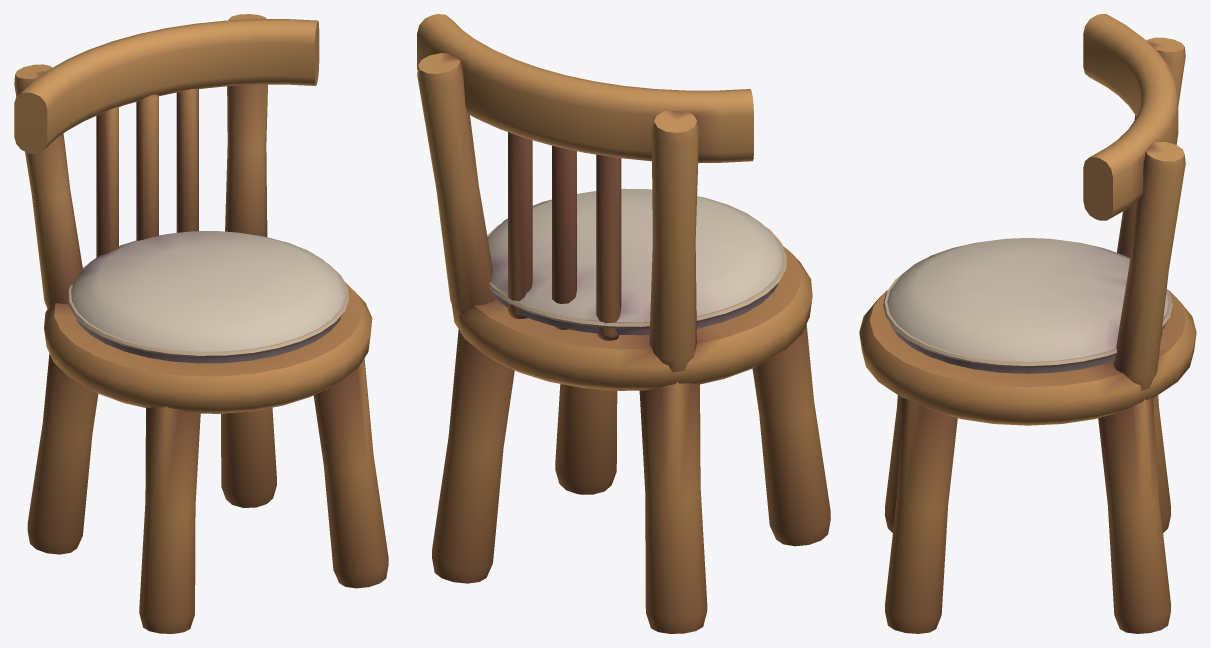
File: chair_classic.glb
3 views of the same model, side by side, from view 1: azimuth 30°, elevation 25°; view 2: azimuth 150°, elevation 25°; view 3: azimuth 270°, elevation 25° (orthographic). The views are drawn at different scales.
Parts seen in each view (by area): view 1: chair_classic; view 2: chair_classic; view 3: chair_classic.
Part boxes in pixels (bbox=[...]): chair_classic: bbox=[14, 14, 388, 633]; chair_classic: bbox=[417, 14, 830, 633]; chair_classic: bbox=[859, 14, 1196, 633].
Size of the model in its own units: 0.6846 by 1.03 by 0.64.
